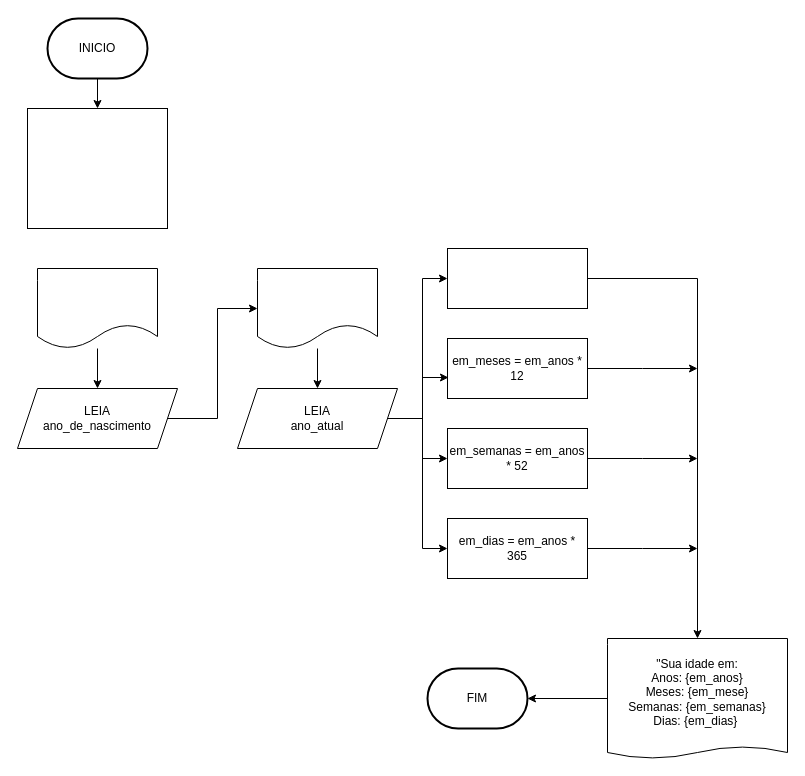
Image size: 805x776. Some labels were removed from this diagram. Here are the shapes that lost their labels. From the top down, the box of each, then its label:
(26, 108, 168, 228): DECLARE ano_de_nascimento, ano_atual, em_anos, em_meses, em_semanas, em_dias
(446, 248, 588, 308): em_anos = ano_atual - ano_de_nascimento
(36, 268, 158, 348): "Informe seu ano de nascimento"
(256, 268, 378, 348): "Informe o ano atual"
